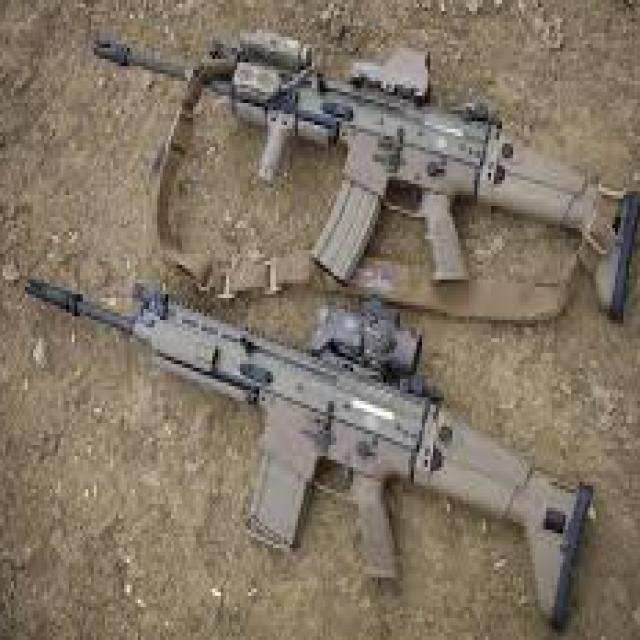Gun: (2, 261, 604, 640), (63, 7, 640, 401)
